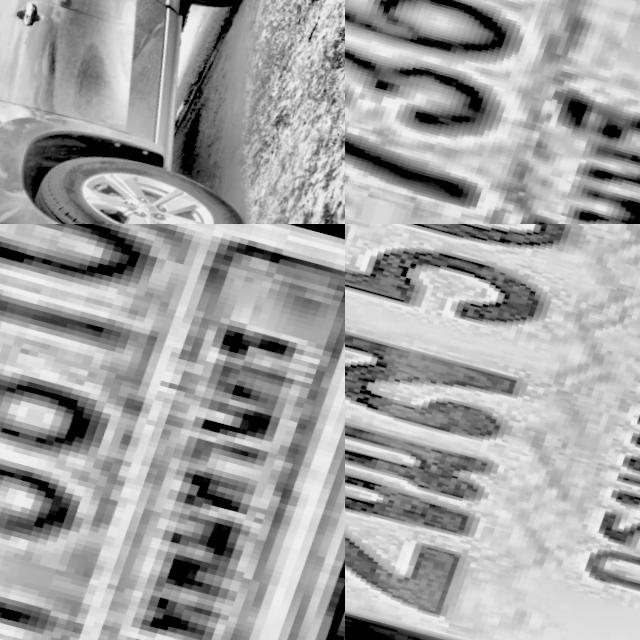license-plate: (0, 224, 345, 640), (345, 224, 640, 640), (345, 0, 640, 224)
